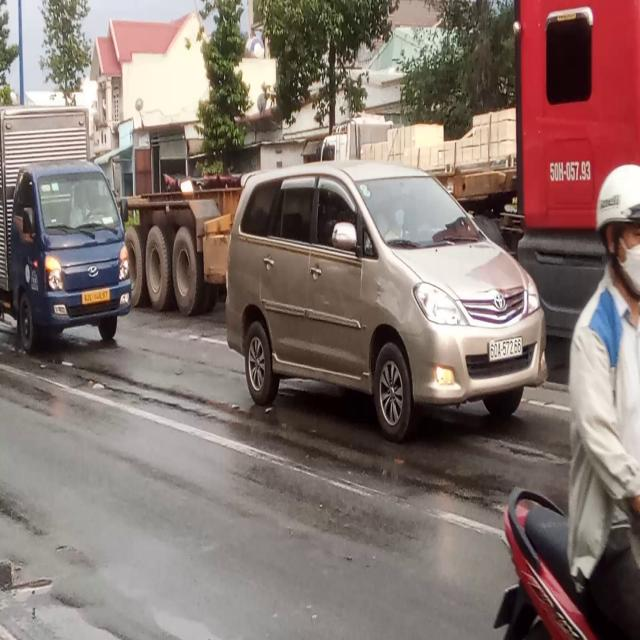bien_trang: (485, 337, 531, 361)
